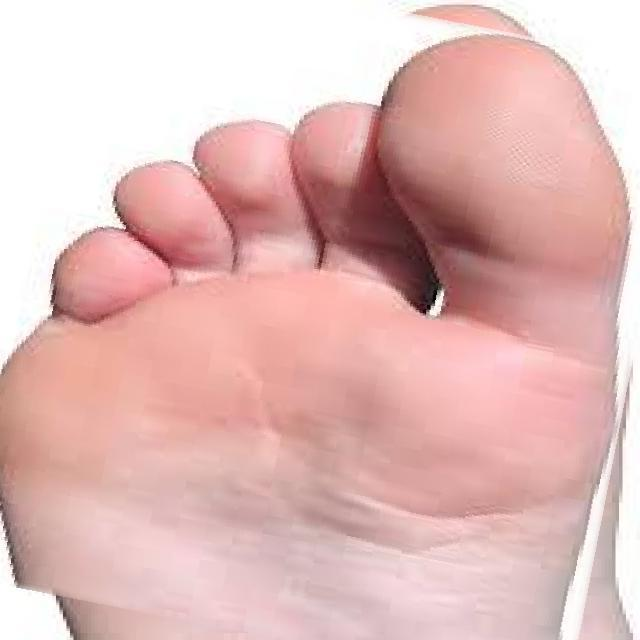No_Shoes: (0, 19, 620, 640)
